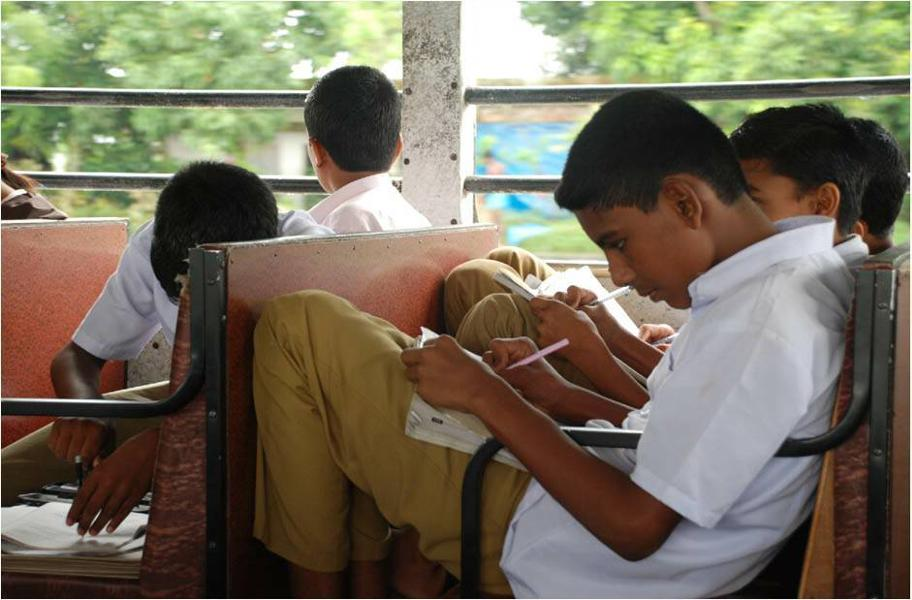person: (245, 89, 854, 600)
